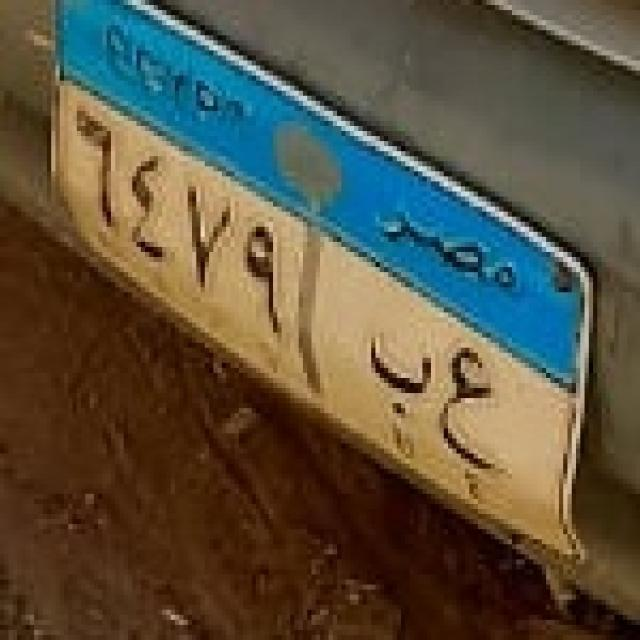4: (119, 144, 172, 272)
6: (68, 100, 124, 237)
7: (177, 183, 237, 299)
9: (232, 215, 296, 352)
Een: (431, 340, 506, 480)
baa: (360, 304, 438, 440)
